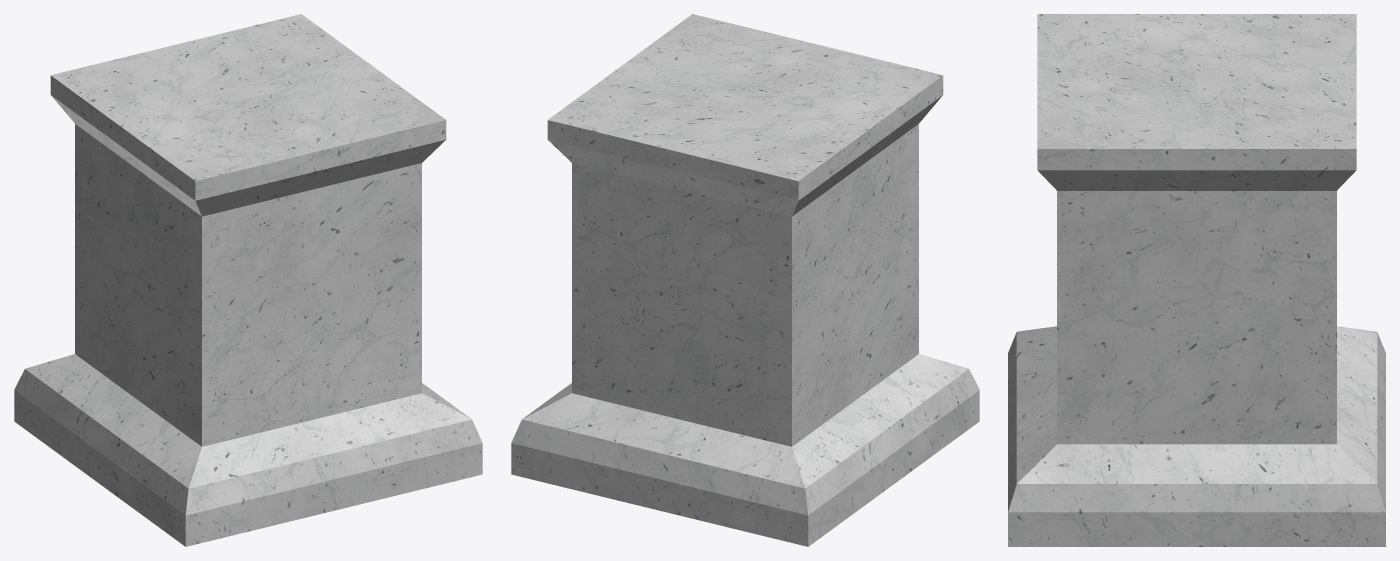
File: pedestal.fbx
The picture shows the model from 3 angles, left to right: view 1: azimuth 30°, elevation 25°; view 2: azimuth 150°, elevation 25°; view 3: azimuth 270°, elevation 25°; orthographic projection. The views are drawn at different scales.
Parts seen in each view (by area): view 1: Cube; view 2: Cube; view 3: Cube.
Boxes of the visible parts, x1,y1,x2,y2 form: Cube: (14, 14, 482, 546); Cube: (511, 14, 979, 546); Cube: (1008, 14, 1385, 546).
Bounding box in the file's own units: 40.38 × 45.5 × 40.38.
